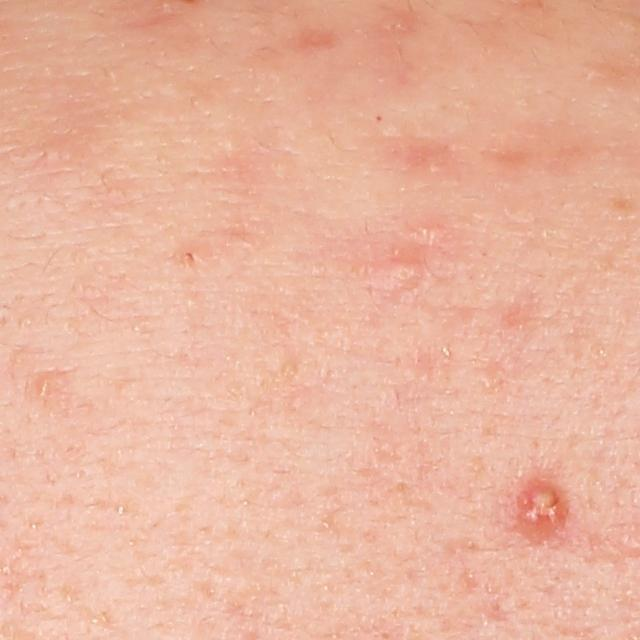comedo: (29, 373, 56, 400)
pustule: (519, 480, 564, 534)
